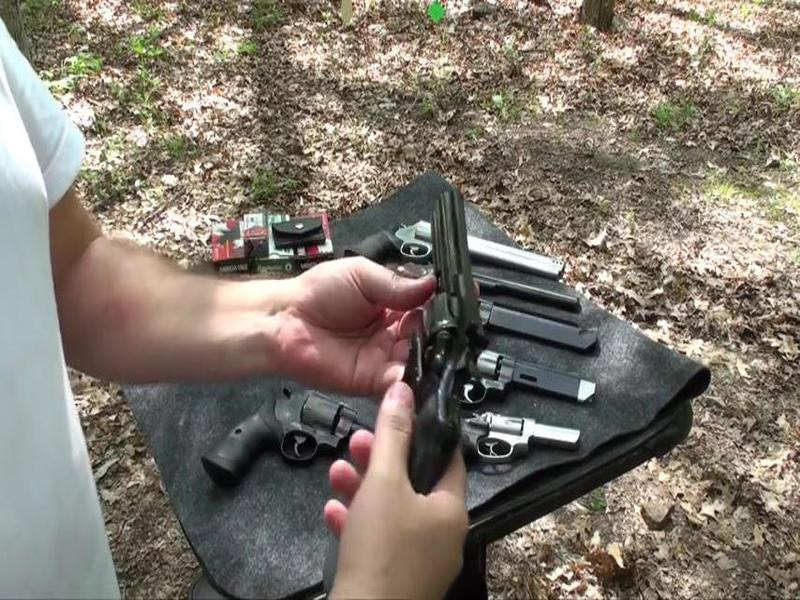Revolver: (365, 148, 495, 524)
